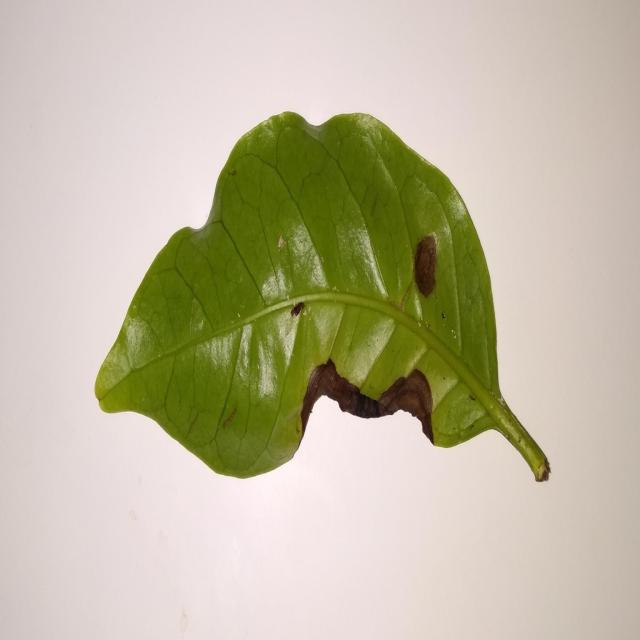Enfermedad-Antracnosis: (93, 112, 550, 484)
